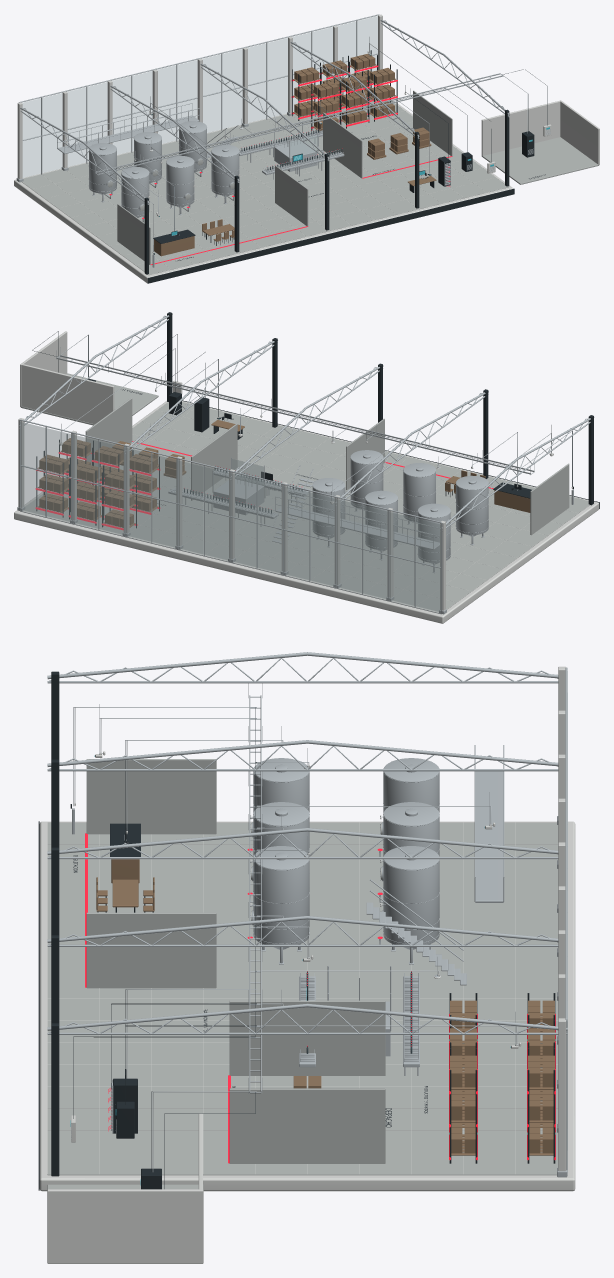
Rendered from winery-connected.glb.
3 renders of one model, top to bottom at view 1: azimuth 30°, elevation 25°; view 2: azimuth 150°, elevation 25°; view 3: azimuth 270°, elevation 25°, orthographic. The views are drawn at different scales.
Parts seen in each view (by area): view 1: Architecture__stone, Architecture__glass, Architecture__chalk, Architecture__metal, Furniture-context__metal, Architecture__wood, Architecture__dark, Data__metal, Architecture__red, Furniture-context__wood, Power__dark; view 2: Architecture__stone, Architecture__glass, Architecture__chalk, Architecture__metal, Furniture-context__metal, Architecture__wood, Architecture__dark, Data__metal, Architecture__red, Furniture-context__wood, Data__dark; view 3: Architecture__stone, Architecture__chalk, Architecture__metal, Furniture-context__metal, Architecture__wood, Architecture__dark, Data__metal, CCTV__metal, Architecture__red, CCTV__dark, Data__dark, Furniture-context__dark (+1 smaller).
Boxes of the visible parts, x1=… form: Architecture__stone: x1=22, y1=90, x2=598, y2=274; Architecture__glass: x1=22, y1=16, x2=377, y2=177; Architecture__chalk: x1=14, y1=14, x2=599, y2=283; Architecture__metal: x1=16, y1=14, x2=509, y2=221; Furniture-context__metal: x1=88, y1=121, x2=343, y2=218; Architecture__wood: x1=202, y1=53, x2=431, y2=241; Architecture__dark: x1=144, y1=50, x2=545, y2=283; Data__metal: x1=95, y1=73, x2=503, y2=235; Architecture__red: x1=150, y1=65, x2=452, y2=264; Furniture-context__wood: x1=154, y1=176, x2=436, y2=256; Power__dark: x1=503, y1=69, x2=547, y2=157; Architecture__stone: x1=21, y1=373, x2=589, y2=612; Architecture__glass: x1=20, y1=422, x2=440, y2=611; Architecture__chalk: x1=14, y1=331, x2=599, y2=623; Architecture__metal: x1=17, y1=314, x2=594, y2=614; Furniture-context__metal: x1=171, y1=450, x2=488, y2=572; Architecture__wood: x1=38, y1=438, x2=485, y2=527; Architecture__dark: x1=36, y1=312, x2=599, y2=528; Data__metal: x1=56, y1=347, x2=534, y2=490; Architecture__red: x1=35, y1=441, x2=493, y2=529; Furniture-context__wood: x1=211, y1=419, x2=530, y2=512; Data__dark: x1=163, y1=363, x2=521, y2=490; Architecture__stone: x1=47, y1=759, x2=558, y2=1263; Architecture__chalk: x1=39, y1=666, x2=575, y2=1263; Architecture__metal: x1=47, y1=652, x2=567, y2=1177; Furniture-context__metal: x1=250, y1=758, x2=439, y2=1061; Architecture__wood: x1=96, y1=877, x2=554, y2=1155; Architecture__dark: x1=38, y1=671, x2=555, y2=1190; Data__metal: x1=111, y1=683, x2=262, y2=1133; CCTV__metal: x1=99, y1=704, x2=518, y2=1133; Architecture__red: x1=85, y1=833, x2=555, y2=1163; CCTV__dark: x1=95, y1=718, x2=511, y2=1138; Data__dark: x1=113, y1=740, x2=255, y2=1133; Furniture-context__dark: x1=110, y1=823, x2=140, y2=856.
Bounding box in the file's own units: 40.38 × 7.84 × 20.64.
